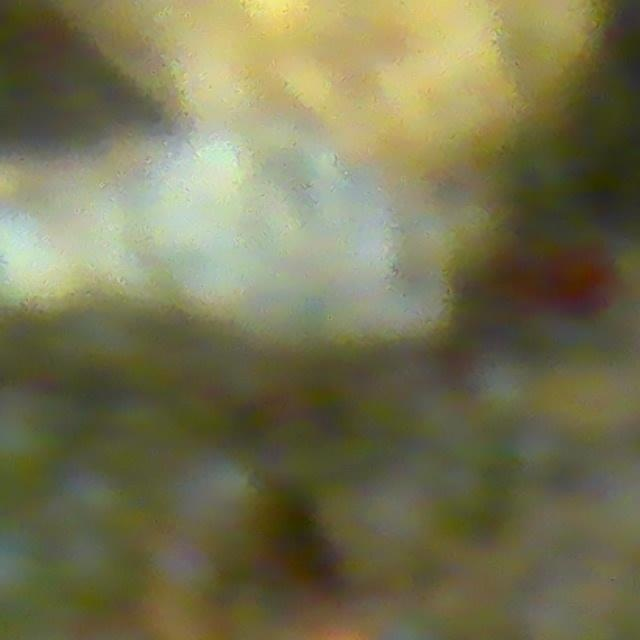SeaGrape: (55, 535, 148, 616), (0, 397, 56, 498)
